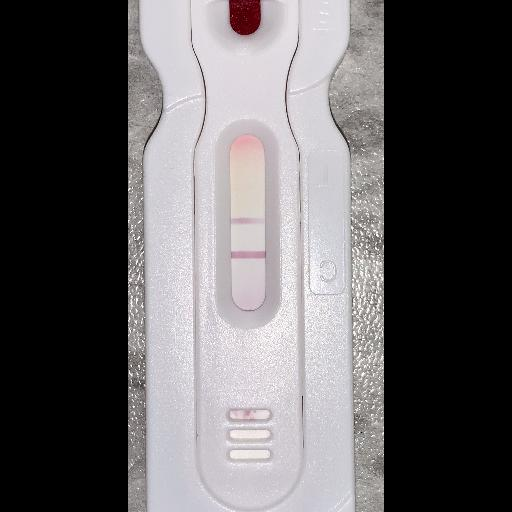Pos: (138, 0, 356, 511)
